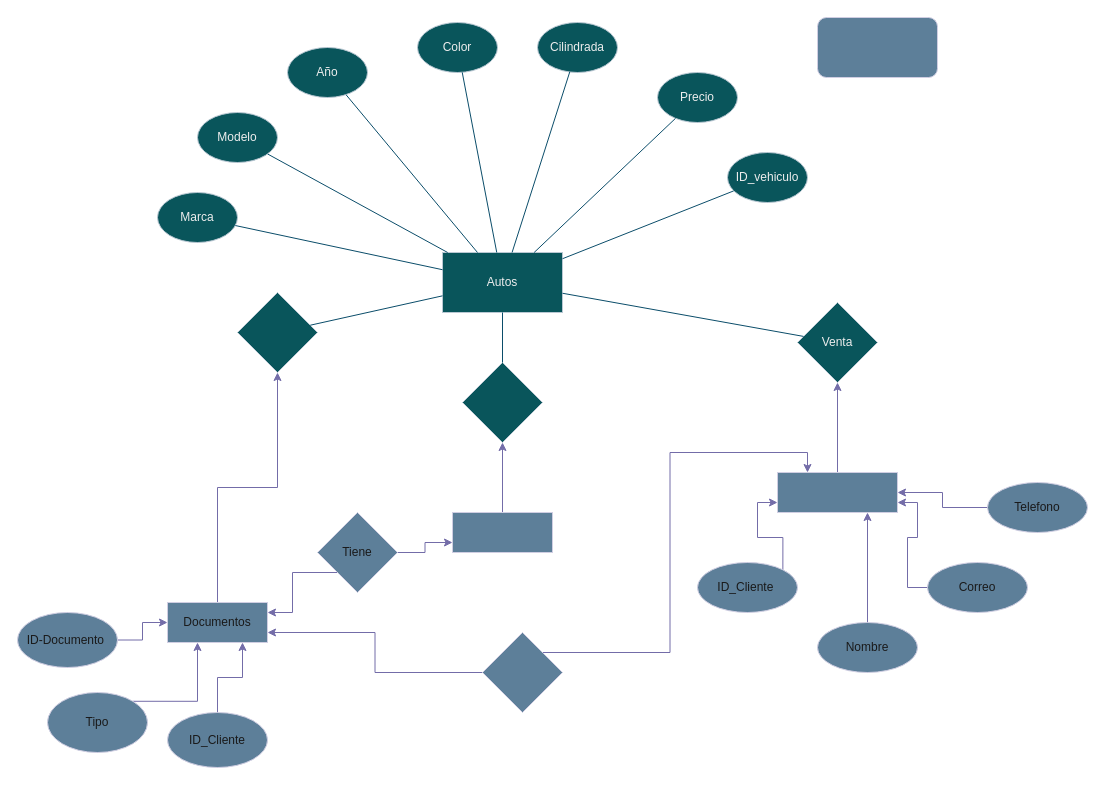
This 1105x785 diagram has some shape labels left out. Each missing label, with the centre of its shape:
"Clientes" goes at (502,532).
"Compran" goes at (502,402).
"Consesionaria" goes at (877,47).
"Empleados" goes at (837,492).
"Solicita" goes at (522,672).
"transacción" goes at (277,332).
